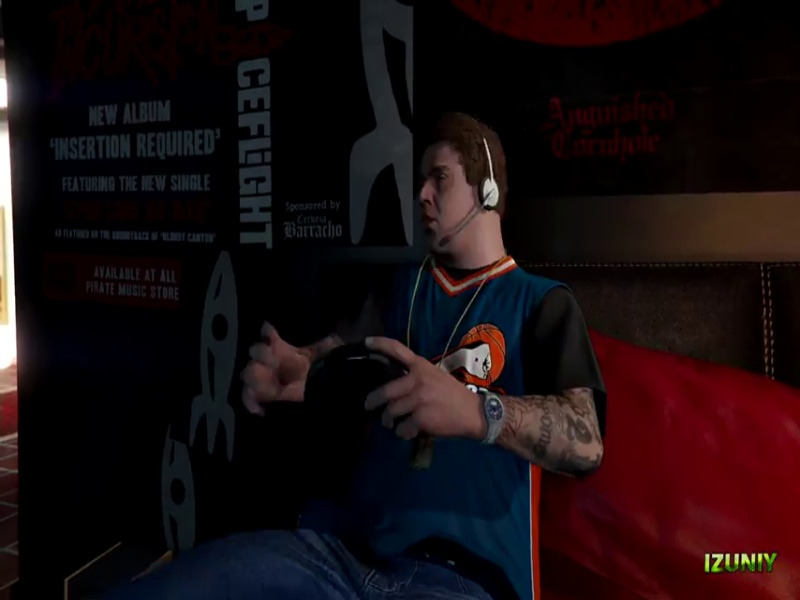human: (242, 97, 604, 588)
